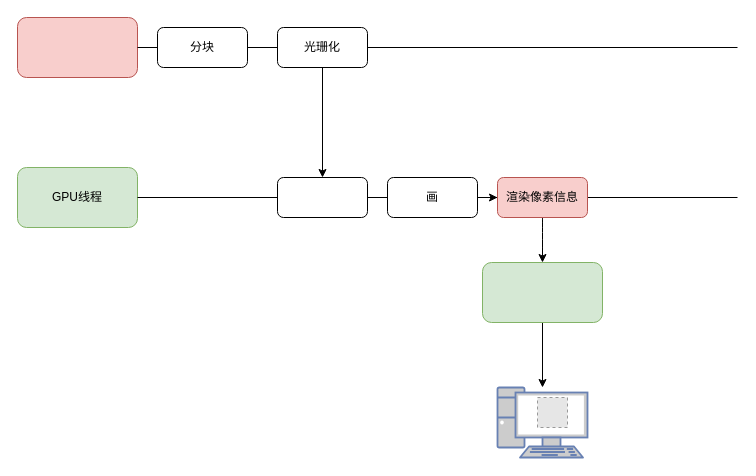
The diagram is 756 pixels wide and 476 high, and some of its shapes have lost their labels. Grey dashed boxes stand in for pictures. Each missing label, with the box of its shape:
位图信息: (276, 176, 368, 218)
合成线程: (16, 16, 138, 78)
显卡硬件: (482, 262, 602, 322)
